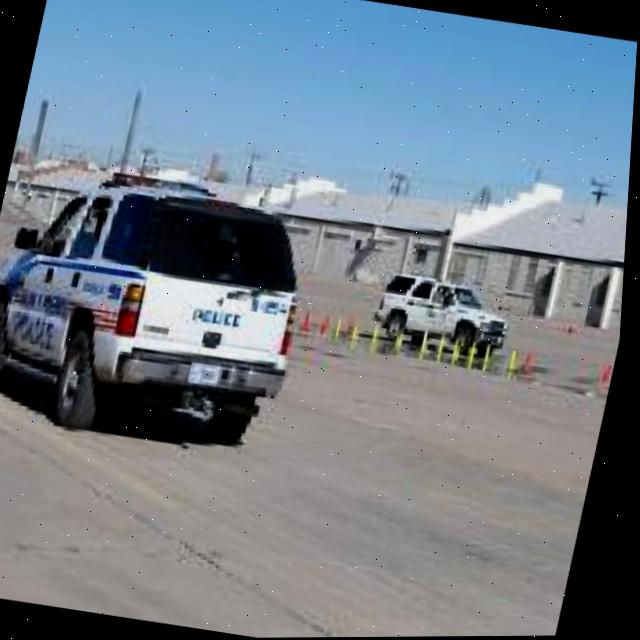emergency: (0, 154, 330, 463)
